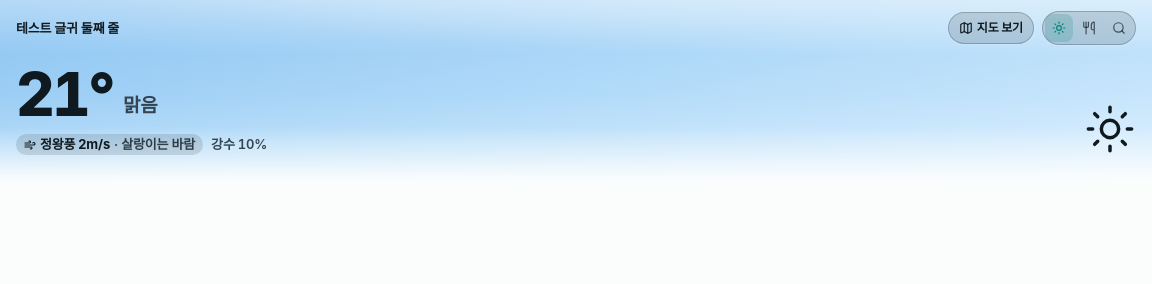
HomeWeatherHero — 스트립 뷰 토글의 44px 히트영역 › 식당 보기를 누르면 여전히 식당 뷰로 전환된다(뷰 전환은 항상 즉시 보인다)
Click the button named "식당 보기" at (1089, 28), box [1067, 6, 1111, 50]
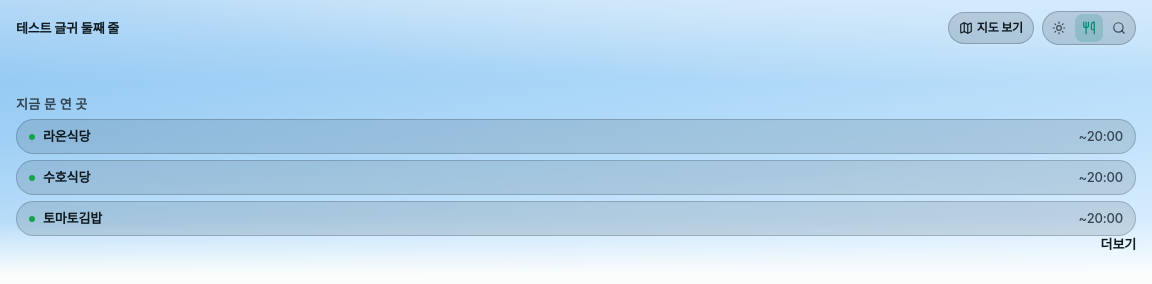
Expected: the text "지금 문 연 곳" is shown, [16, 96, 88, 112]
